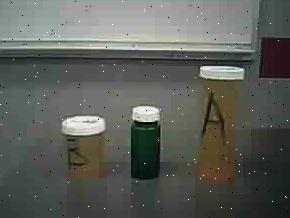Bottle A: (190, 59, 253, 190)
Bottle B: (57, 113, 116, 180)
Bottle C: (128, 106, 164, 182)
